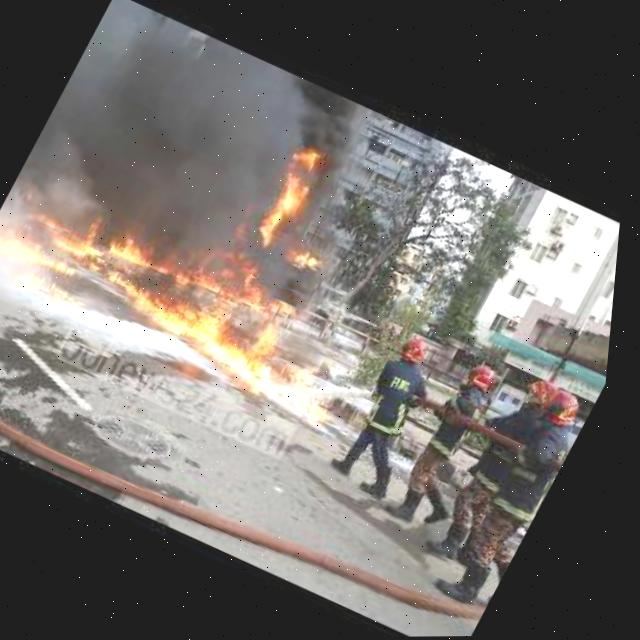Fire: (0, 175, 394, 432), (254, 138, 336, 249)
Smoke: (15, 0, 342, 278)
